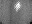person: (14, 2, 21, 12)
